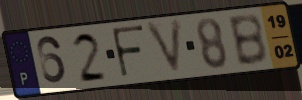2: (70, 31, 109, 83)
6: (35, 34, 69, 88)
8: (195, 16, 230, 71)
B: (226, 12, 270, 69)
F: (109, 24, 147, 81)
V: (142, 16, 185, 78)
